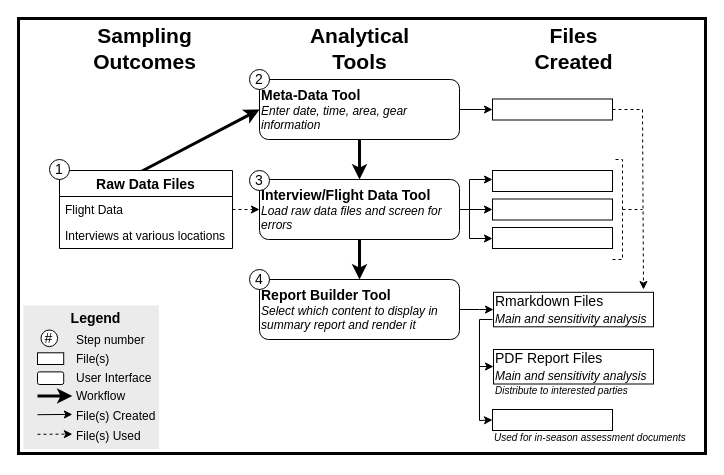
Image size: 724x475. Some labels were removed from this diagram. The centre of each missing label's shape, as x and y in pixels:
"Bootstrap File" belongs at (x=552, y=419).
"Data Settings File" belongs at (x=552, y=181).
"Flight Data File" belongs at (x=552, y=209).
"Interview Data File" belongs at (x=552, y=237).
"Meta-Data File" belongs at (x=552, y=109).
